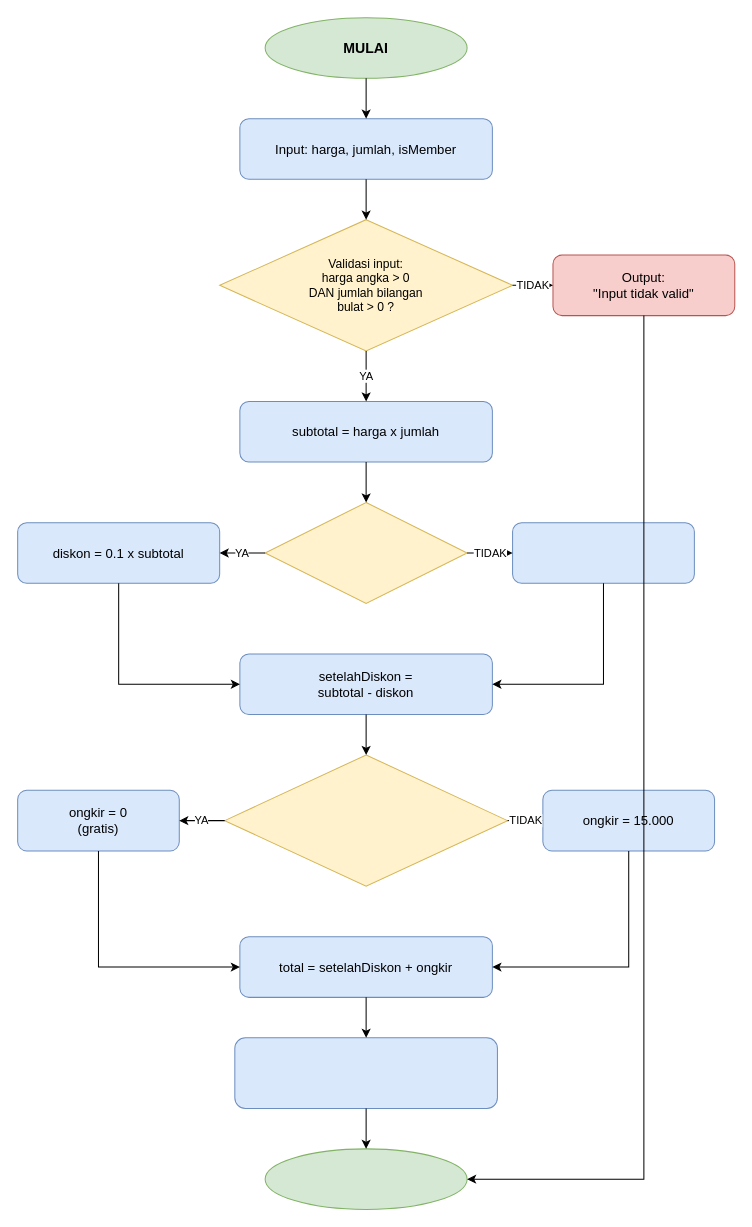
This 752x1227 diagram has some shape labels left out. Each missing label, with the centre of its shape:
"diskon = 0" goes at (603,552).
"isMember = true ?" goes at (365,552).
"Output: subtotal, diskon, ongkir, total pembayaran" goes at (365,1072).
"SELESAI" goes at (365,1178).
"setelahDiskon >= 250.000 ?" goes at (366,820).
